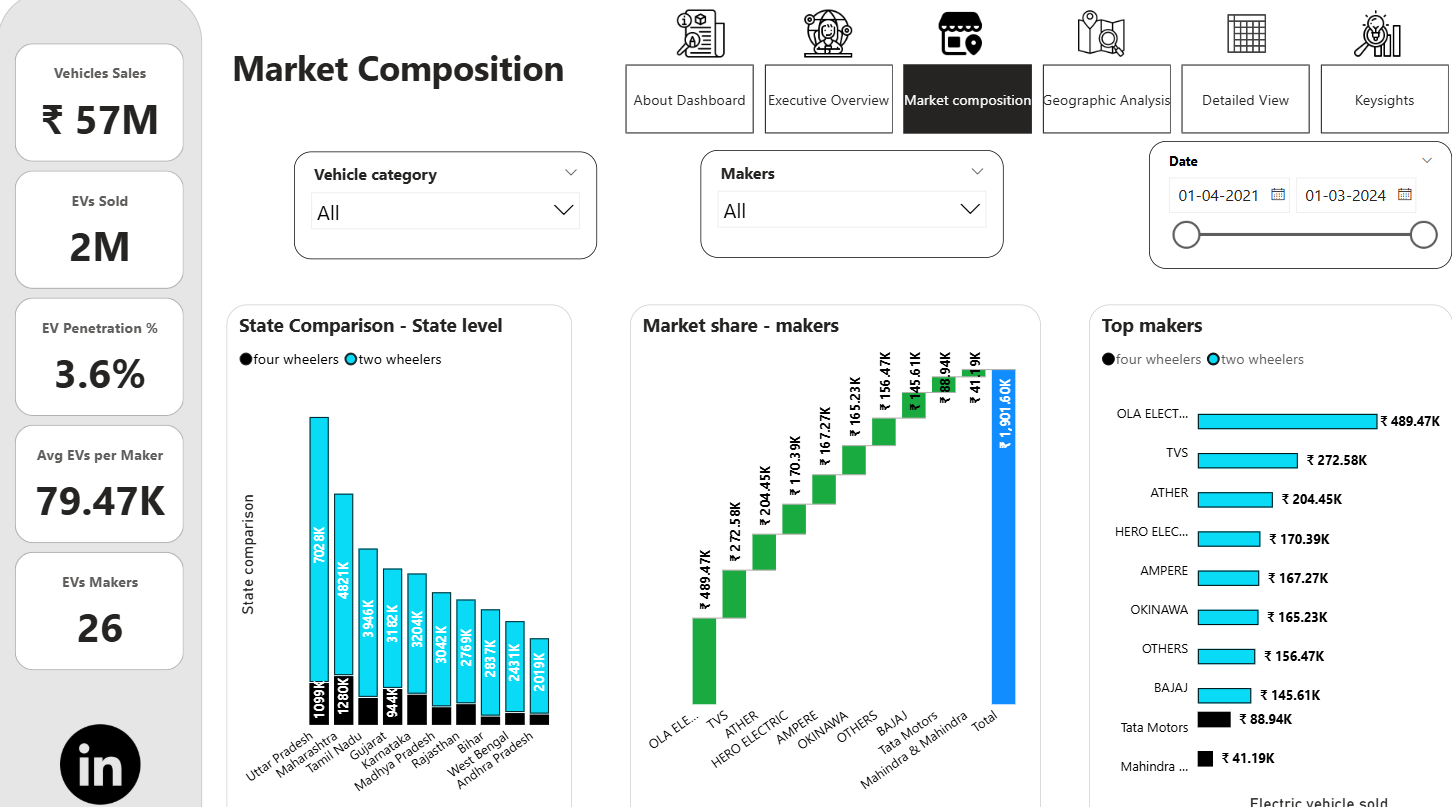

The dashboard page shown, as its layout file describes it:
{"tool":"powerbi","page":{"name":" Market composition ","canvas":[1362,800],"ordinal":2},"visuals":[{"type":"waterfallChart","title":"Market share - makers","fields":{"Category":["electric_vehicle_sales_by_makers.maker"],"Y":["electric_vehicle_sales_by_state.Electric vehicle sold"]},"box":[586.8,290.6,381.1,483],"z":0},{"type":"clusteredBarChart","title":"Top makers","fields":{"Category":["electric_vehicle_sales_by_makers.maker"],"Y":["electric_vehicle_sales_by_state.Electric vehicle sold"],"Series":["electric_vehicle_sales_by_makers.vehicle_category"]},"box":[1013.2,290.6,337.7,483],"z":1000},{"type":"textbox","box":[203.8,43.4,337.7,67.9],"z":2000},{"type":"slicer","fields":{"Values":["dim_date.date"]},"box":[1069.8,139.6,281.1,118.9],"z":3000},{"type":"slicer","fields":{"Values":["electric_vehicle_sales_by_makers.vehicle_category"]},"box":[275.5,149.1,281.1,100],"z":4000},{"type":"shape","box":[0,0,190.6,800],"z":5000},{"type":"slicer","fields":{"Values":["electric_vehicle_sales_by_makers.Maker"]},"box":[652.8,147.2,281.1,100],"z":6000},{"type":"image","box":[737.7,11.3,67.9,56.6],"z":7000},{"type":"image","box":[860.4,11.3,67.9,56.6],"z":8000},{"type":"image","box":[990.6,11.3,67.9,56.6],"z":9000},{"type":"image","box":[1126.4,11.3,67.9,56.6],"z":10000},{"type":"image","box":[618.9,11.3,67.9,56.6],"z":11000},{"type":"cardVisual","fields":{"Data":["electric_vehicle_sales_by_state.Vehicles Sold","Sum(electric_vehicle_sales_by_state.electric_vehicles_sold)","electric_vehicle_sales_by_state.EV Penetration %","electric_vehicle_sales_by_makers.Average EVs per Maker","electric_vehicle_sales_by_makers.Distinct Makers"]},"box":[11.3,43.4,167.9,594.3],"z":12000},{"type":"pageNavigator","box":[583,67.9,767.9,64.2],"z":13000},{"type":"columnChart","title":"State Comparison - State level","fields":{"Category":["electric_vehicle_sales_by_state.state"],"Series":["electric_vehicle_sales_by_state.Vehicle_category"],"Y":["Sum(electric_vehicle_sales_by_state.total_vehicles_sold)"]},"box":[213.2,290.6,320.8,483],"z":14000},{"type":"image","box":[28.3,675.5,135.8,84.9],"z":15000},{"type":"image","box":[1247.2,11.3,67.9,56.6],"z":16000}]}

Visuals, with their boxes on the page's 1362x800 design canvas (x1, y1, x2, y2). These are canvas units, not pixel positions in the 1452x807 screenshot, which may show the page scaled, cropped or inside an application window:
"Market share - makers" waterfallChart: bbox=[587, 291, 968, 774]
"Top makers" clusteredBarChart: bbox=[1013, 291, 1351, 774]
textbox: bbox=[204, 43, 542, 111]
slicer - dim_date.date: bbox=[1070, 140, 1351, 258]
slicer - electric_vehicle_sales_by_makers.vehicle_category: bbox=[276, 149, 557, 249]
shape: bbox=[0, 0, 191, 800]
slicer - electric_vehicle_sales_by_makers.Maker: bbox=[653, 147, 934, 247]
image: bbox=[738, 11, 806, 68]
image: bbox=[860, 11, 928, 68]
image: bbox=[991, 11, 1058, 68]
image: bbox=[1126, 11, 1194, 68]
image: bbox=[619, 11, 687, 68]
cardVisual - electric_vehicle_sales_by_state.Vehicles Sold x Sum(electric_vehicle_sales_by_state.electric_vehicles_sold): bbox=[11, 43, 179, 638]
pageNavigator: bbox=[583, 68, 1351, 132]
"State Comparison - State level" columnChart: bbox=[213, 291, 534, 774]
image: bbox=[28, 676, 164, 760]
image: bbox=[1247, 11, 1315, 68]
